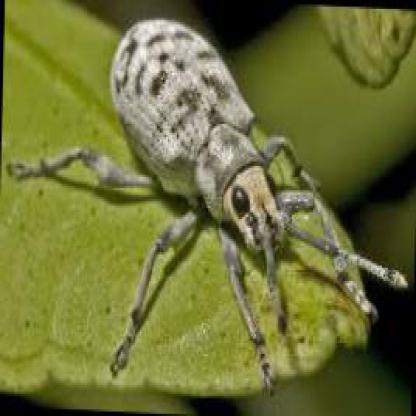ash weevil: (11, 21, 377, 385)
